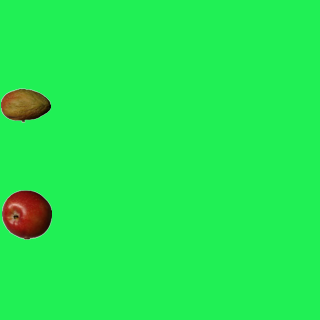Apple Braeburn: (1, 189, 51, 239)
Papaya: (0, 80, 50, 130)
